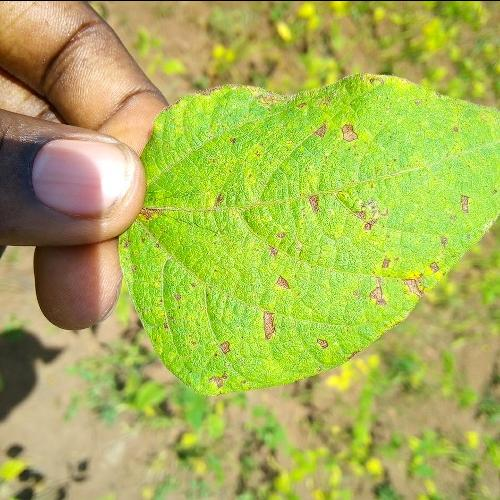hawar: (231, 182, 380, 375), (356, 191, 490, 344), (296, 81, 364, 171)
